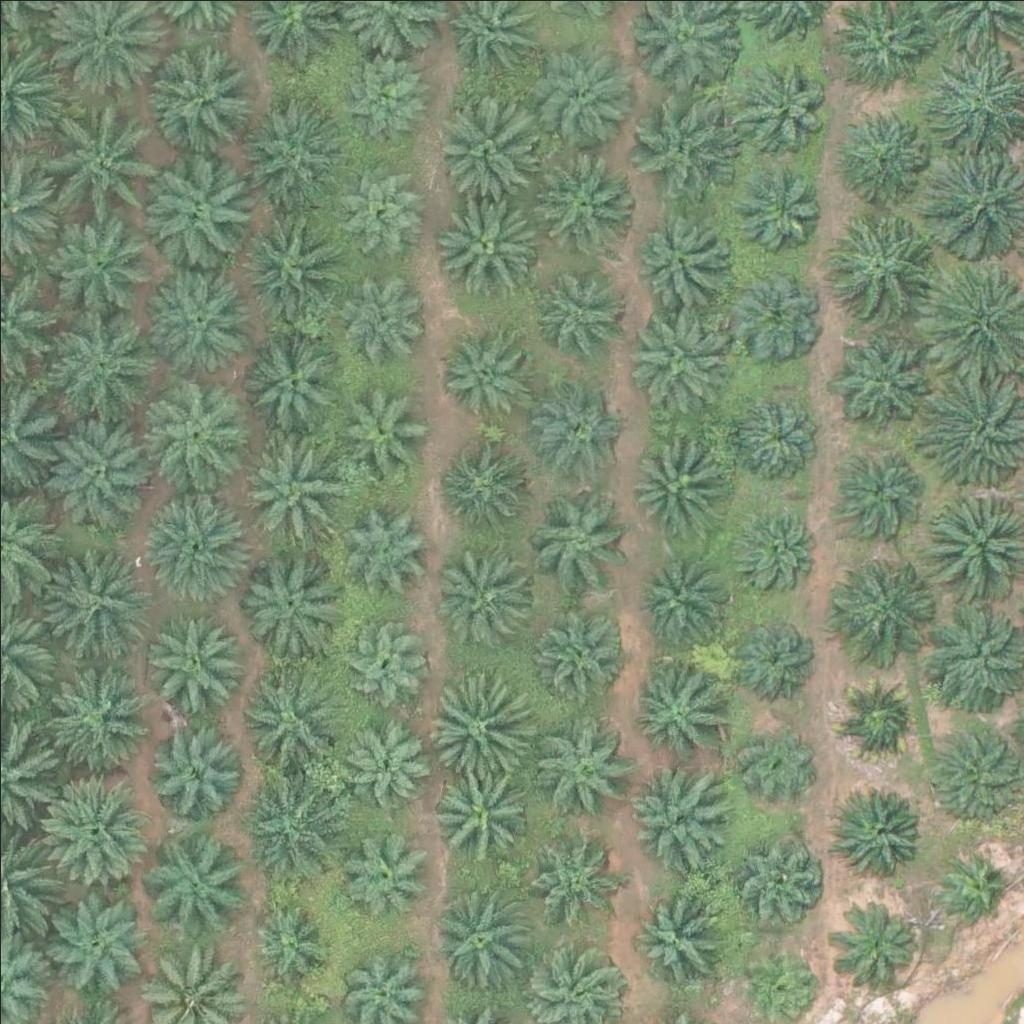Kelapa_Sawit: (37, 548, 150, 662), (149, 146, 262, 259), (529, 36, 642, 149), (44, 413, 157, 526), (37, 659, 150, 772), (140, 822, 253, 935), (138, 487, 251, 600), (232, 425, 345, 538), (234, 667, 347, 780), (233, 767, 346, 880), (529, 142, 641, 256), (235, 210, 347, 324), (424, 667, 536, 781), (620, 301, 732, 415), (37, 102, 149, 215), (152, 41, 264, 154), (234, 93, 346, 206), (426, 90, 538, 203), (626, 93, 738, 206), (46, 214, 158, 327), (47, 305, 159, 418), (39, 775, 151, 888), (140, 258, 252, 371), (431, 189, 543, 302), (825, 548, 937, 661), (823, 198, 935, 311), (148, 716, 248, 817), (140, 612, 240, 713), (144, 375, 244, 476), (248, 331, 348, 432), (237, 548, 337, 649), (438, 323, 538, 424), (425, 756, 525, 857), (533, 708, 633, 809), (531, 598, 631, 699), (526, 254, 626, 355), (626, 662, 726, 763), (726, 262, 826, 363), (834, 322, 934, 423), (49, 892, 149, 993), (437, 546, 537, 646), (528, 489, 628, 589), (528, 365, 628, 465), (627, 882, 727, 982), (624, 766, 724, 866), (623, 429, 723, 529), (630, 208, 730, 308), (725, 384, 825, 484), (430, 888, 530, 988), (340, 52, 428, 140), (740, 63, 828, 151), (843, 109, 931, 197), (346, 825, 434, 913), (342, 713, 430, 801), (337, 387, 425, 475), (332, 267, 420, 355), (444, 442, 532, 530), (523, 824, 611, 912), (636, 558, 724, 646), (737, 166, 825, 254), (731, 719, 819, 807), (730, 607, 818, 695), (730, 502, 818, 590), (246, 904, 334, 992), (341, 616, 428, 704), (340, 497, 427, 585), (338, 162, 425, 250), (734, 836, 821, 924), (832, 895, 919, 983), (836, 790, 923, 878), (836, 672, 923, 760), (839, 451, 926, 539), (932, 845, 1007, 921)
